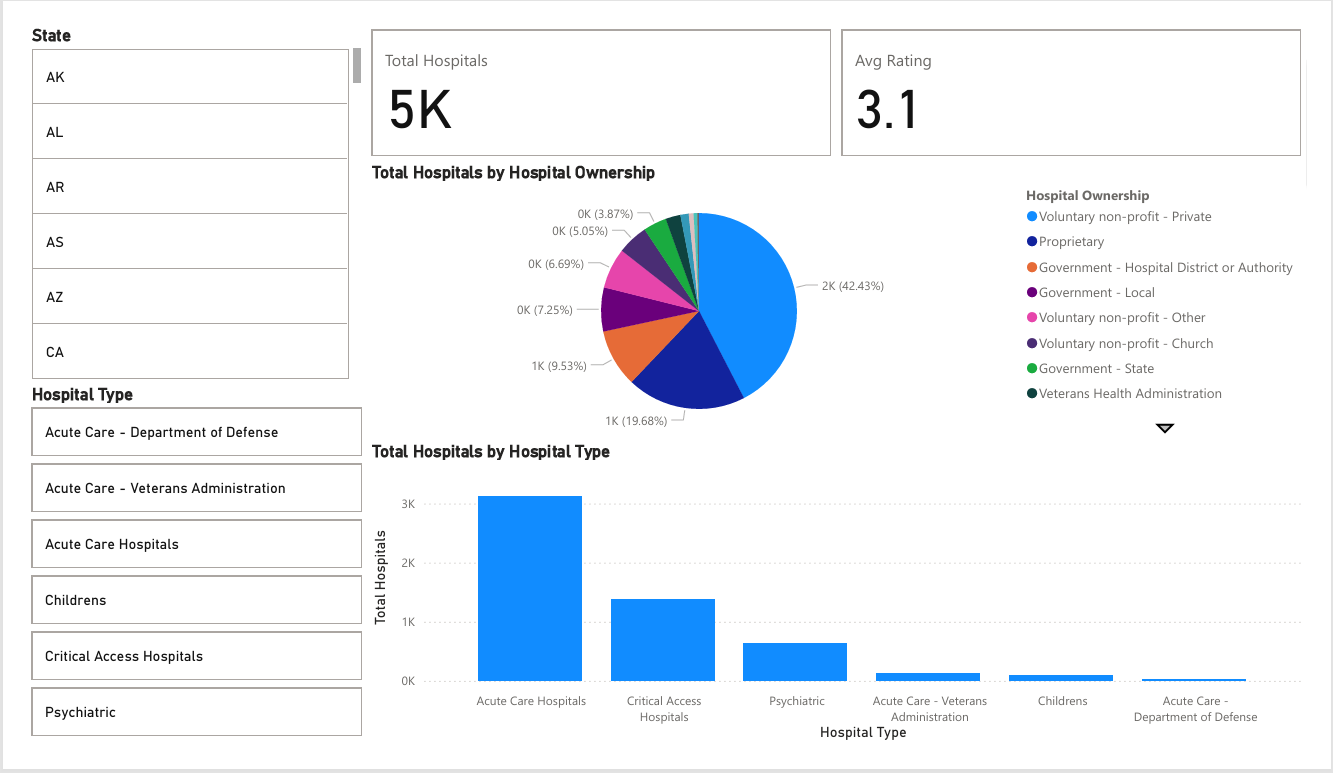

This screenshot's page, from the dashboard's own definition file:
{"tool":"powerbi","page":{"name":"Hospital Overview","canvas":[1280,720],"ordinal":0},"visuals":[{"type":"pieChart","fields":{"Category":["Hospital_General_Information.Hospital Ownership"],"Y":["Hospital_General_Information.Total Hospitals"]},"box":[340.2,136.8,939.8,279.6],"z":0},{"type":"clusteredColumnChart","fields":{"Category":["Hospital_General_Information.Hospital Type"],"Y":["Hospital_General_Information.Total Hospitals"]},"box":[340.2,416.4,939.8,303.3],"z":1000},{"type":"cardVisual","fields":{"Data":["Hospital_General_Information.Total Hospitals"]},"box":[340.2,0,469.9,136.8],"z":2000},{"type":"cardVisual","fields":{"Data":["Hospital_General_Information.Avg Rating"]},"box":[810.1,0,469.9,136.8],"z":3000},{"type":"advancedSlicerVisual","fields":{"Values":["Hospital_General_Information.State"]},"box":[0,0,340.2,360.4],"z":4000},{"type":"advancedSlicerVisual","fields":{"Values":["Hospital_General_Information.Hospital Type"]},"box":[0,359.3,340.2,360.4],"z":5000}]}

Visuals, with their boxes in screenshot pixels (x1, y1, x2, y2), scaled from the page's 1280x720 canvas onto the 1333x773 screenshot:
pieChart - Hospital_General_Information.Hospital Ownership x Hospital_General_Information.Total Hospitals: [x1=354, y1=147, x2=1332, y2=447]
clusteredColumnChart - Hospital_General_Information.Hospital Type x Hospital_General_Information.Total Hospitals: [x1=354, y1=447, x2=1332, y2=772]
cardVisual - Hospital_General_Information.Total Hospitals: [x1=354, y1=0, x2=844, y2=147]
cardVisual - Hospital_General_Information.Avg Rating: [x1=844, y1=0, x2=1332, y2=147]
advancedSlicerVisual - Hospital_General_Information.State: [x1=0, y1=0, x2=354, y2=387]
advancedSlicerVisual - Hospital_General_Information.Hospital Type: [x1=0, y1=386, x2=354, y2=772]
